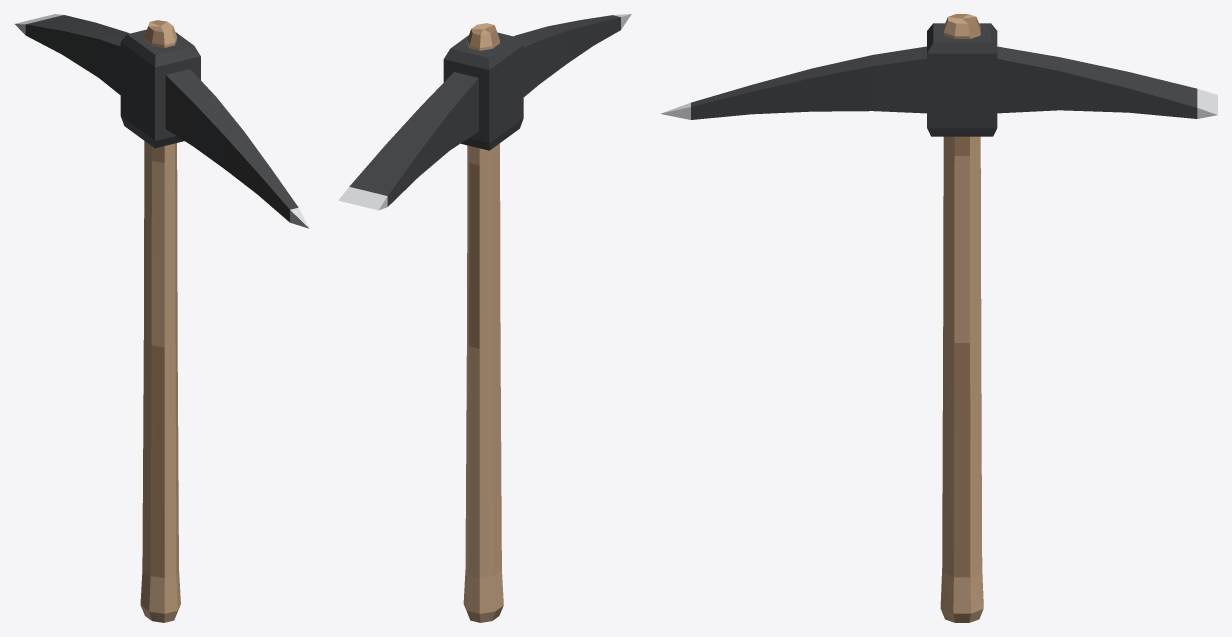
The model's file is pickaxe.glb.
The picture shows the model from 3 angles, left to right: view 1: azimuth 30°, elevation 25°; view 2: azimuth 150°, elevation 25°; view 3: azimuth 270°, elevation 25°; orthographic projection.
Visible parts, largest first — view 1: Pickaxe; view 2: Pickaxe; view 3: Pickaxe.
Boxes of the visible parts, x1=… form: Pickaxe: x1=15, y1=14, x2=309, y2=622; Pickaxe: x1=338, y1=14, x2=631, y2=622; Pickaxe: x1=660, y1=14, x2=1217, y2=622.
Bounding box in the file's own units: 0.052 × 0.64 × 0.541.
